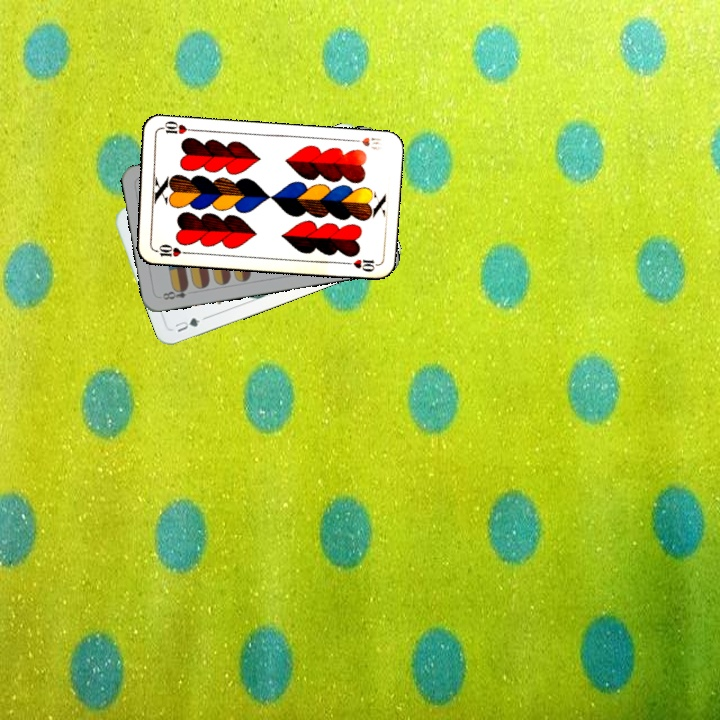E8: (156, 282, 191, 302)
GU: (170, 313, 203, 335)
H10: (150, 240, 190, 259), (346, 133, 383, 149)
